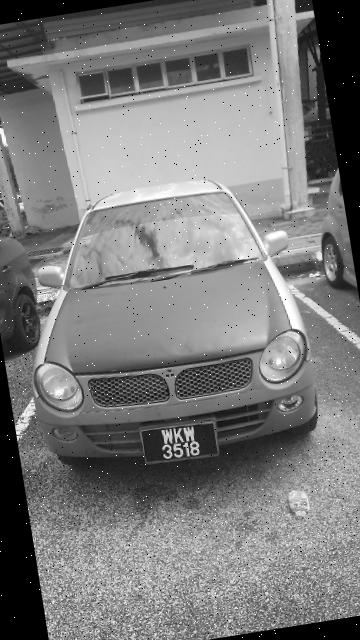License_Plate: (133, 414, 227, 474)
car: (1, 150, 338, 497)
